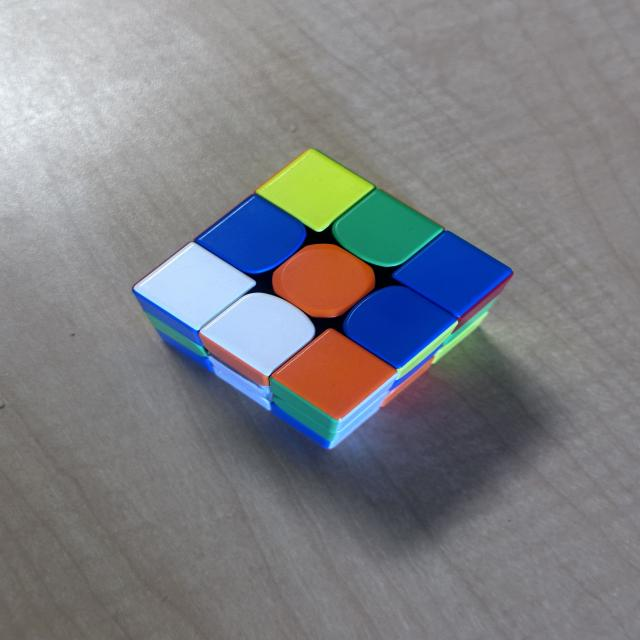sticker: (266, 328, 399, 442), (131, 241, 258, 359), (392, 231, 512, 322), (200, 293, 316, 385), (254, 147, 374, 233), (342, 286, 454, 373), (197, 194, 306, 276), (331, 189, 441, 268), (271, 243, 376, 319), (392, 320, 455, 380), (434, 304, 494, 366), (202, 337, 266, 387), (384, 355, 434, 408), (376, 192, 434, 232)
